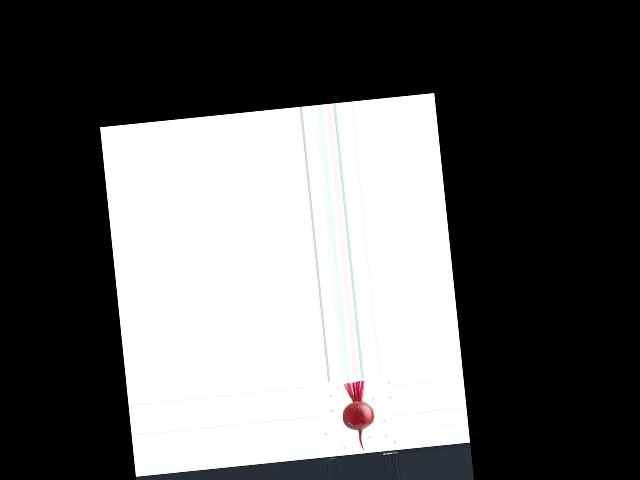beet: (339, 379, 377, 453)
